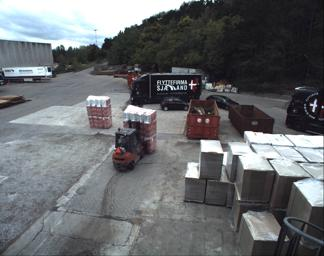rockwool_batts: (123, 105, 157, 149), (83, 92, 113, 127)
